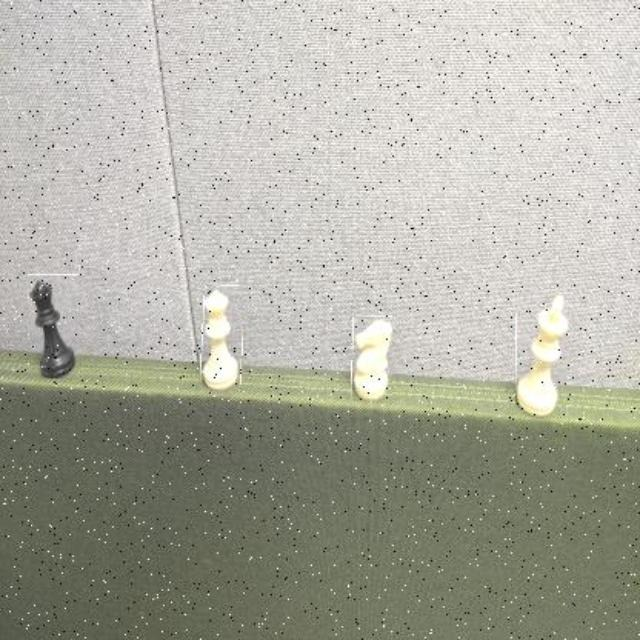black-queen: (28, 274, 80, 380)
white-king: (517, 292, 569, 418)
white-knight: (352, 315, 393, 402)
white-queen: (201, 286, 244, 393)
